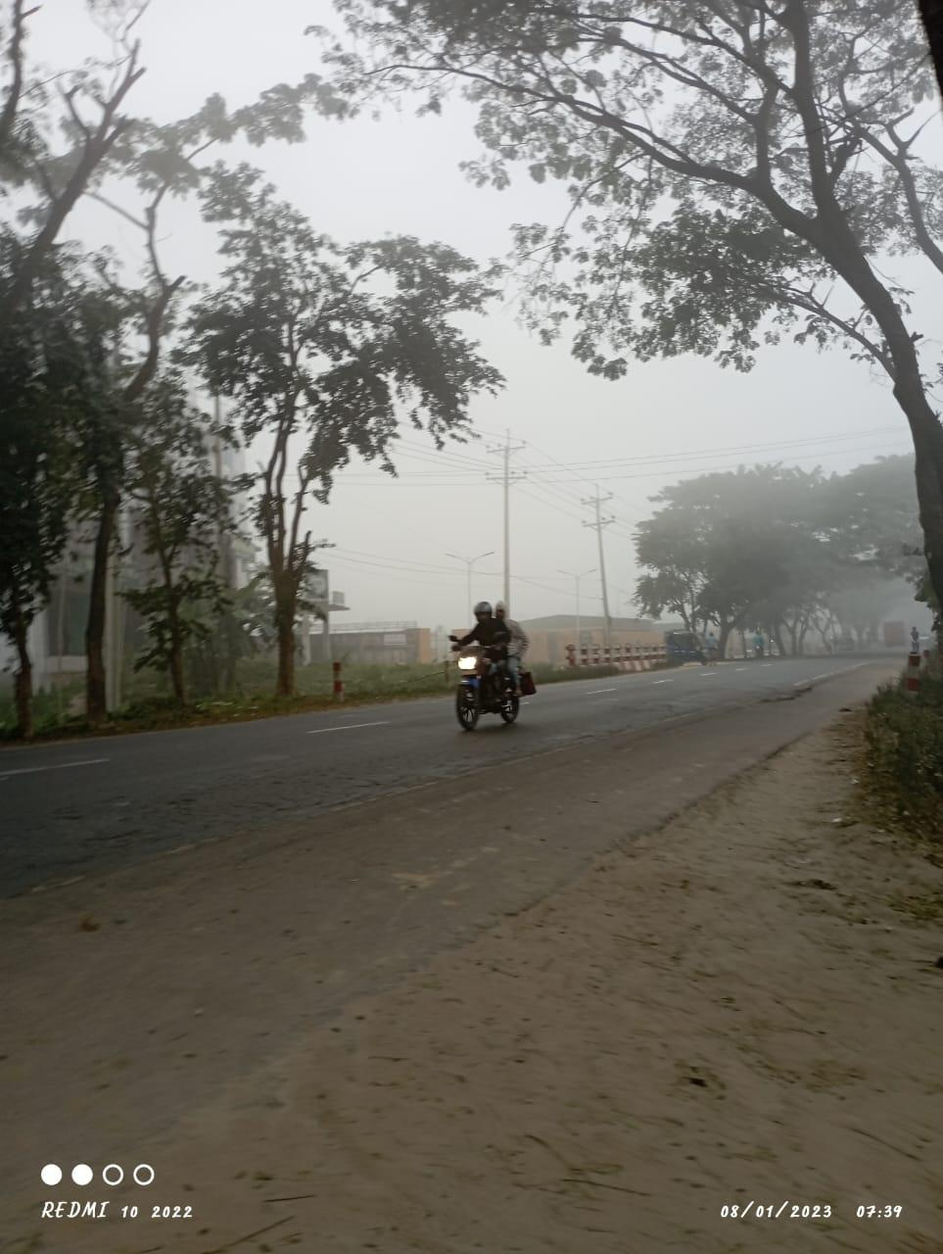Bike: (436, 601, 562, 734)
